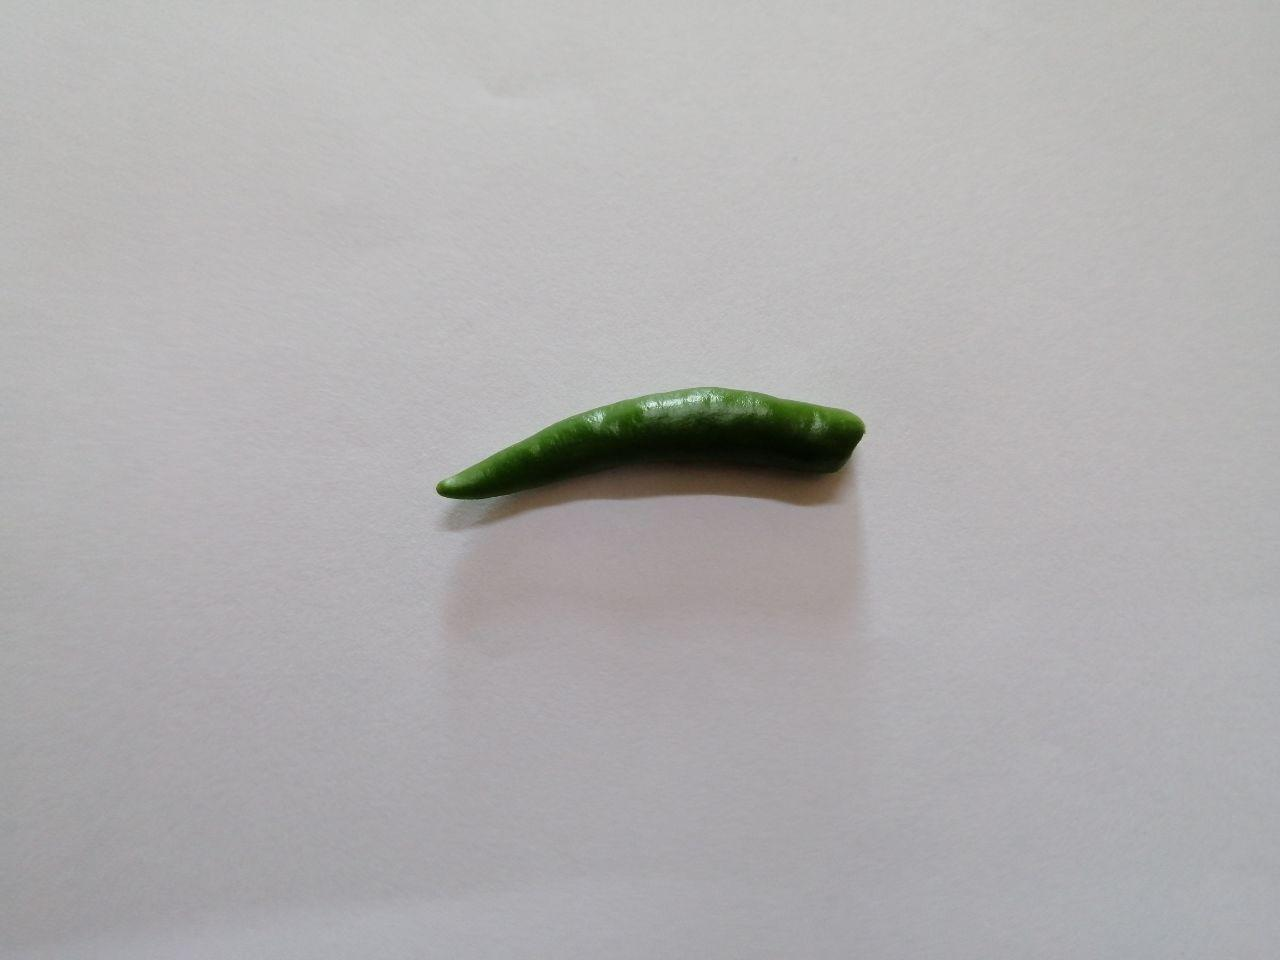lada hijau: (418, 380, 874, 531)
